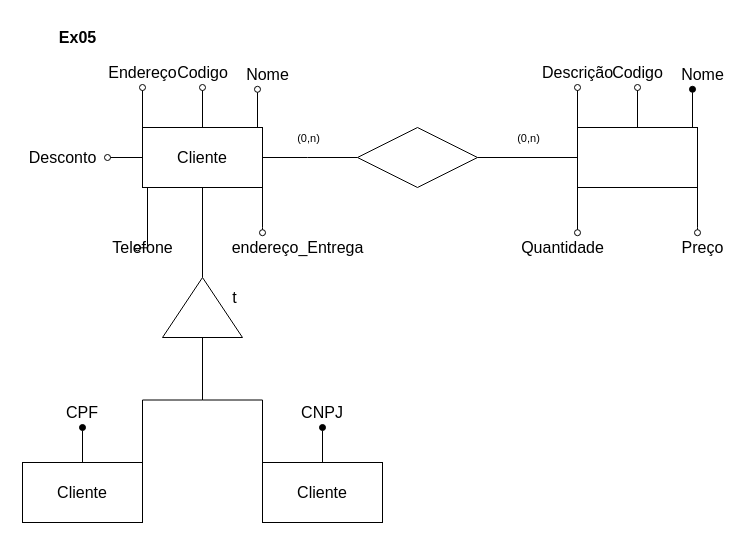
Image size: 754x540. Some labels were removed from this diagram. Here are the shapes that lost their labels. From the top down, the box of each, then its label:
(356, 126, 478, 188): Compra
(576, 126, 698, 188): Material
